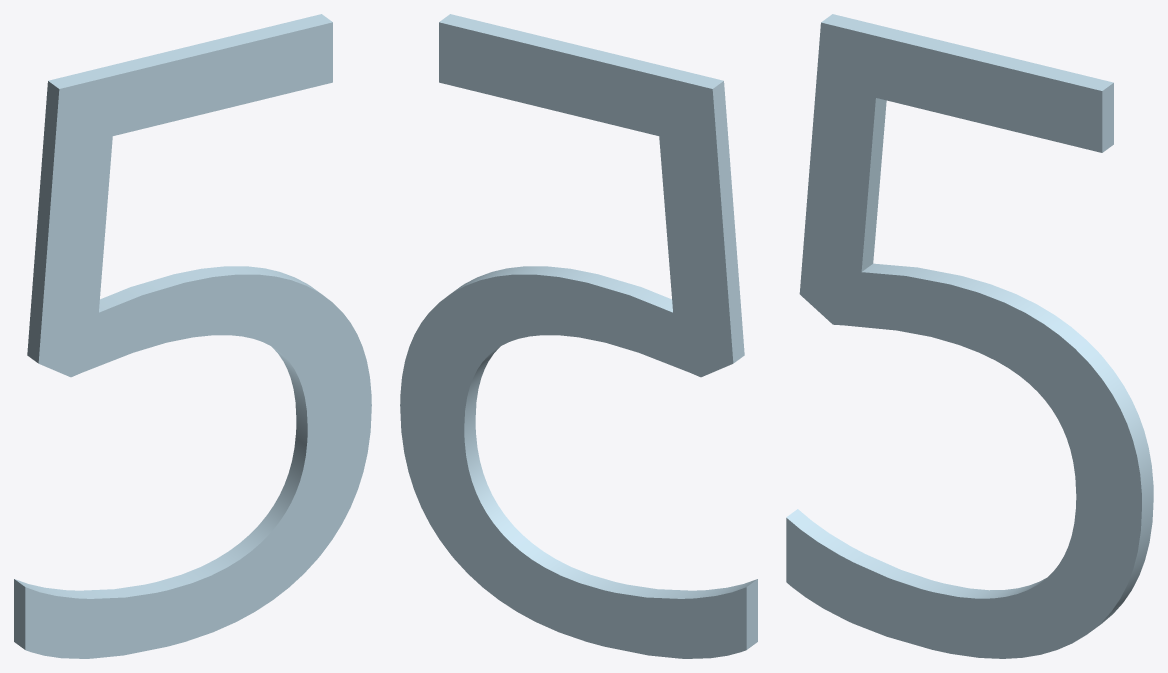
3 views of the same model, side by side, from view 1: azimuth 30°, elevation 25°; view 2: azimuth 150°, elevation 25°; view 3: azimuth 330°, elevation 25° (orthographic). The views are drawn at different scales.
Visible parts, largest first — view 1: 5; view 2: 5; view 3: 5.
Boxes of the visible parts, x1,y1,x2,y2 form: 5: (14, 14, 371, 658); 5: (400, 14, 757, 658); 5: (786, 14, 1153, 658).
Bounding box in the file's own units: 0.0353 × 0.0569 × 0.002.
